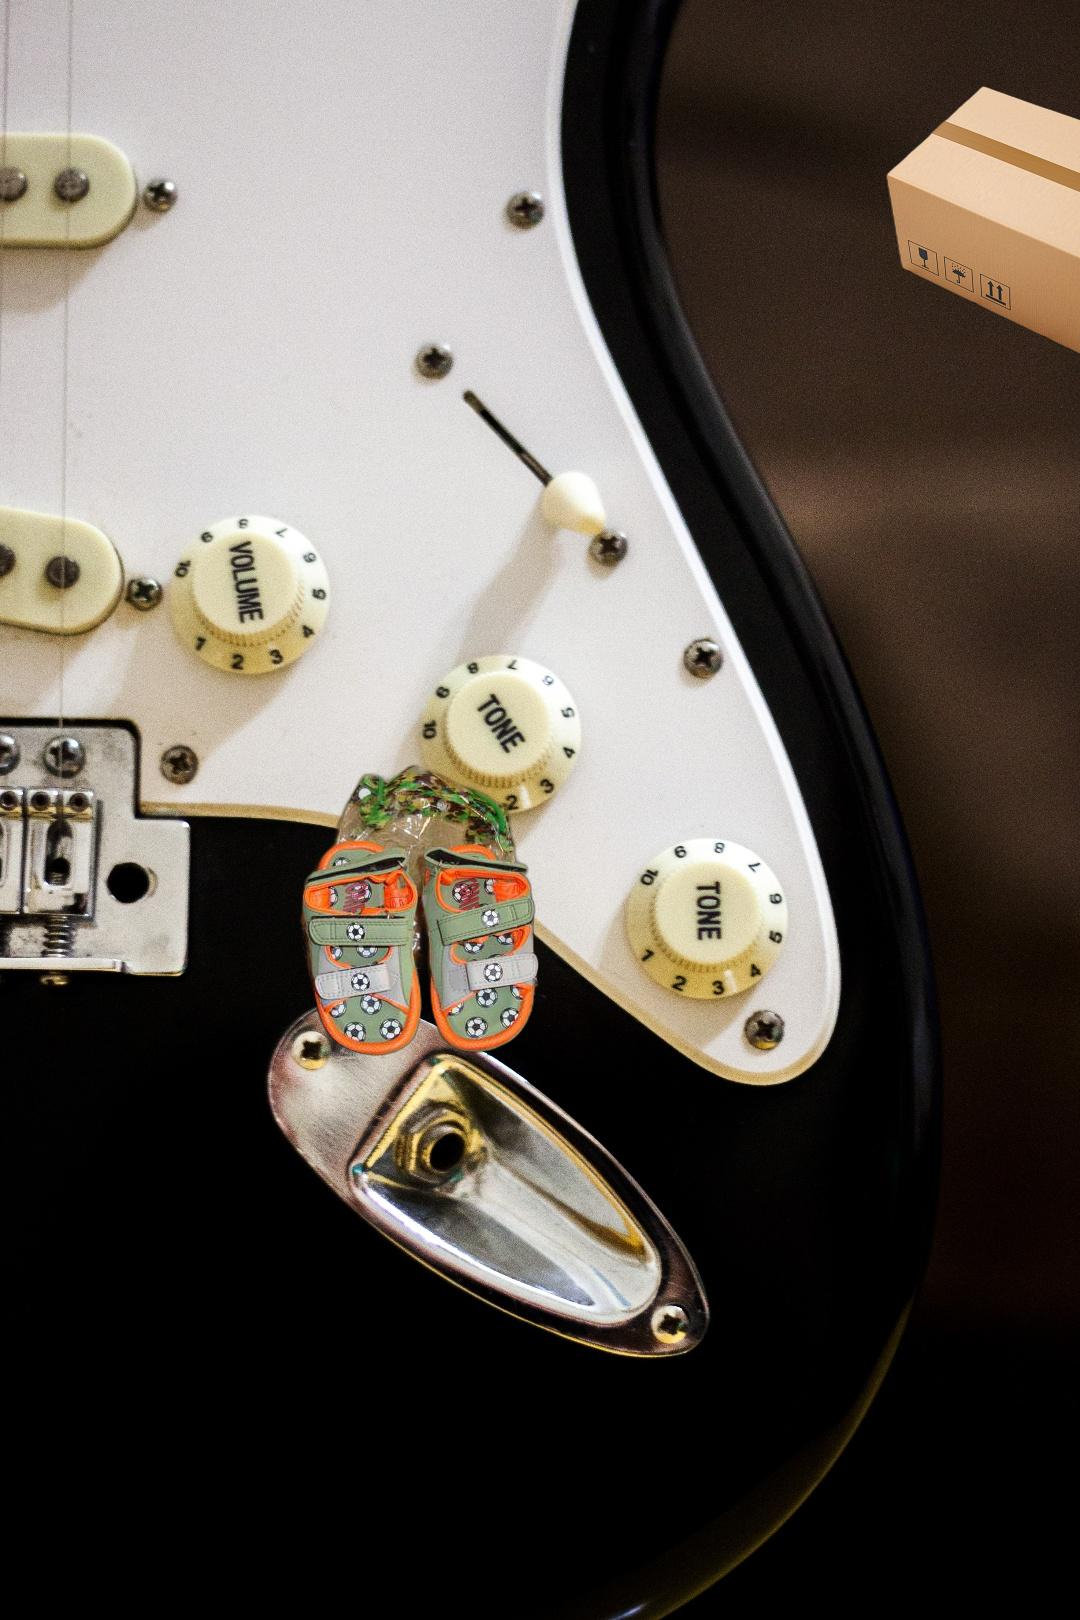shoes: (295, 761, 544, 1060)
trashbox-cardboard: (881, 84, 1080, 360)
